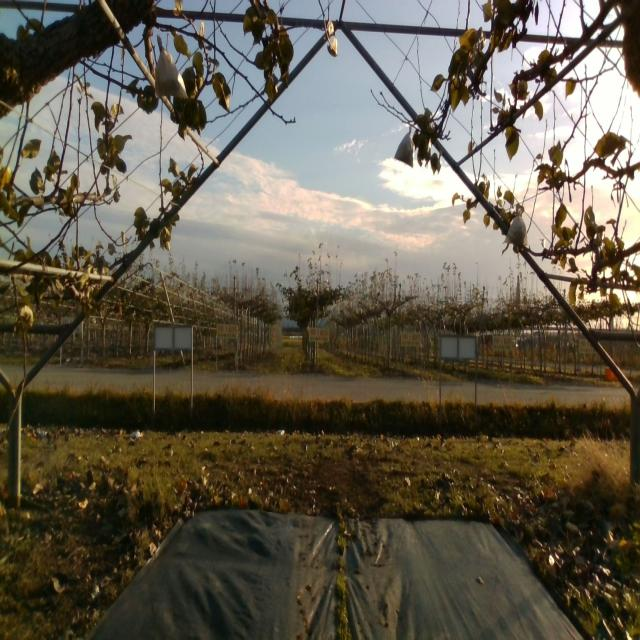pearbags: (153, 36, 190, 102), (504, 209, 528, 249), (395, 127, 414, 166)
